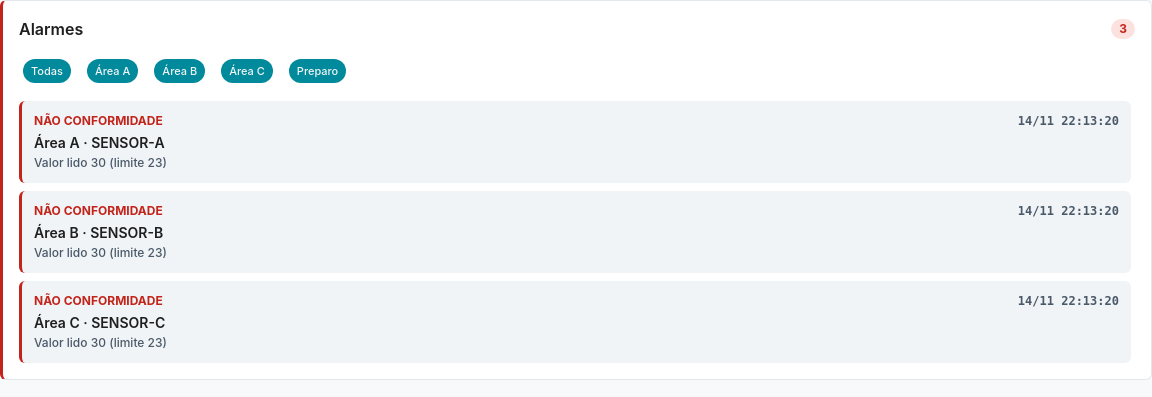
AlarmsWidget › chip "Todas" (toggle-all) › voltar a todas em 1 toque: de subconjunto, tap "Todas" -> todos os alarmes de volta
The width and height of the screenshot is (1152, 397).
Click the button "Área A". click: (113, 71)
box: [83,53,142,89]
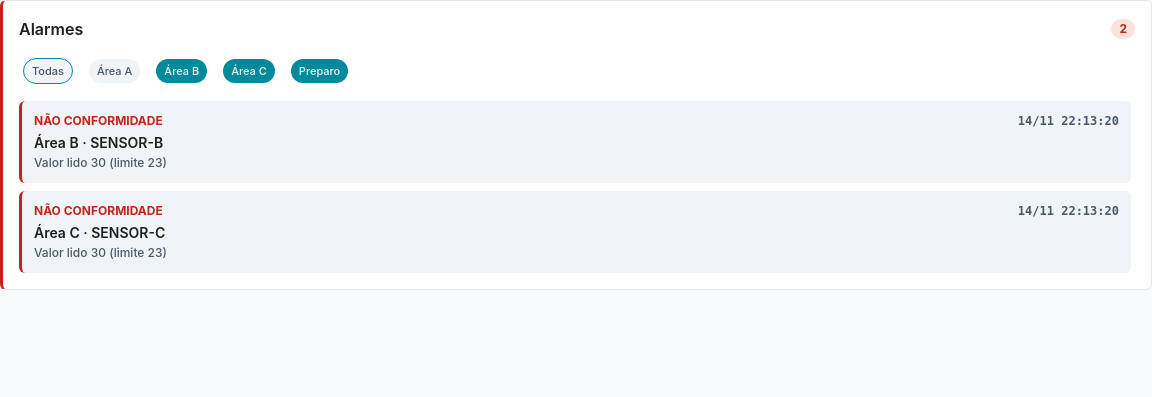
Expected: the button "Todas" has attribute aria-pressed="mixed"
Click the button "Todas". click: (48, 71)
box: [19,53,77,89]
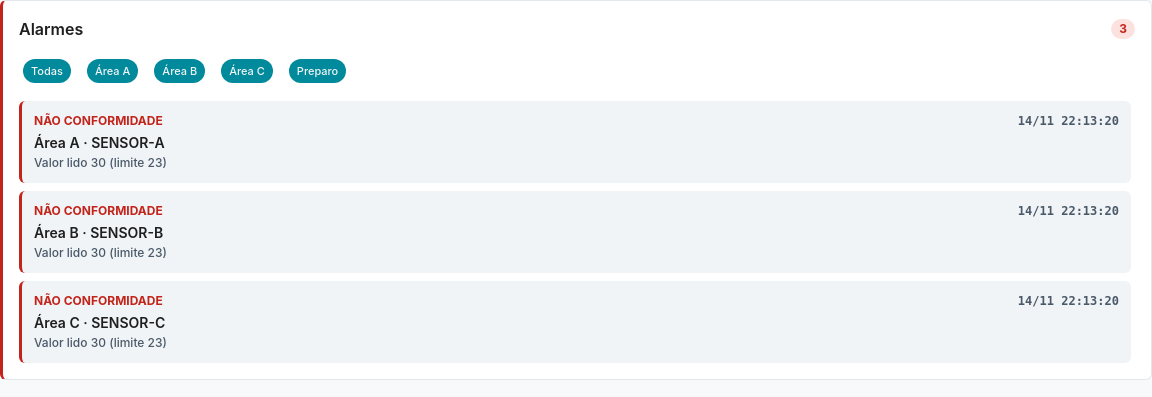
Expected: the text "Área B · SENSOR-B" is shown, [34,224,163,241]
Expected: the text "Área A · SENSOR-A" is shown, [34,134,165,151]
